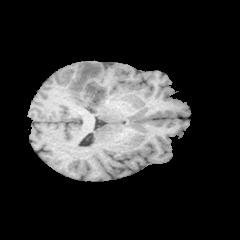glioma: (69, 63, 108, 108)
